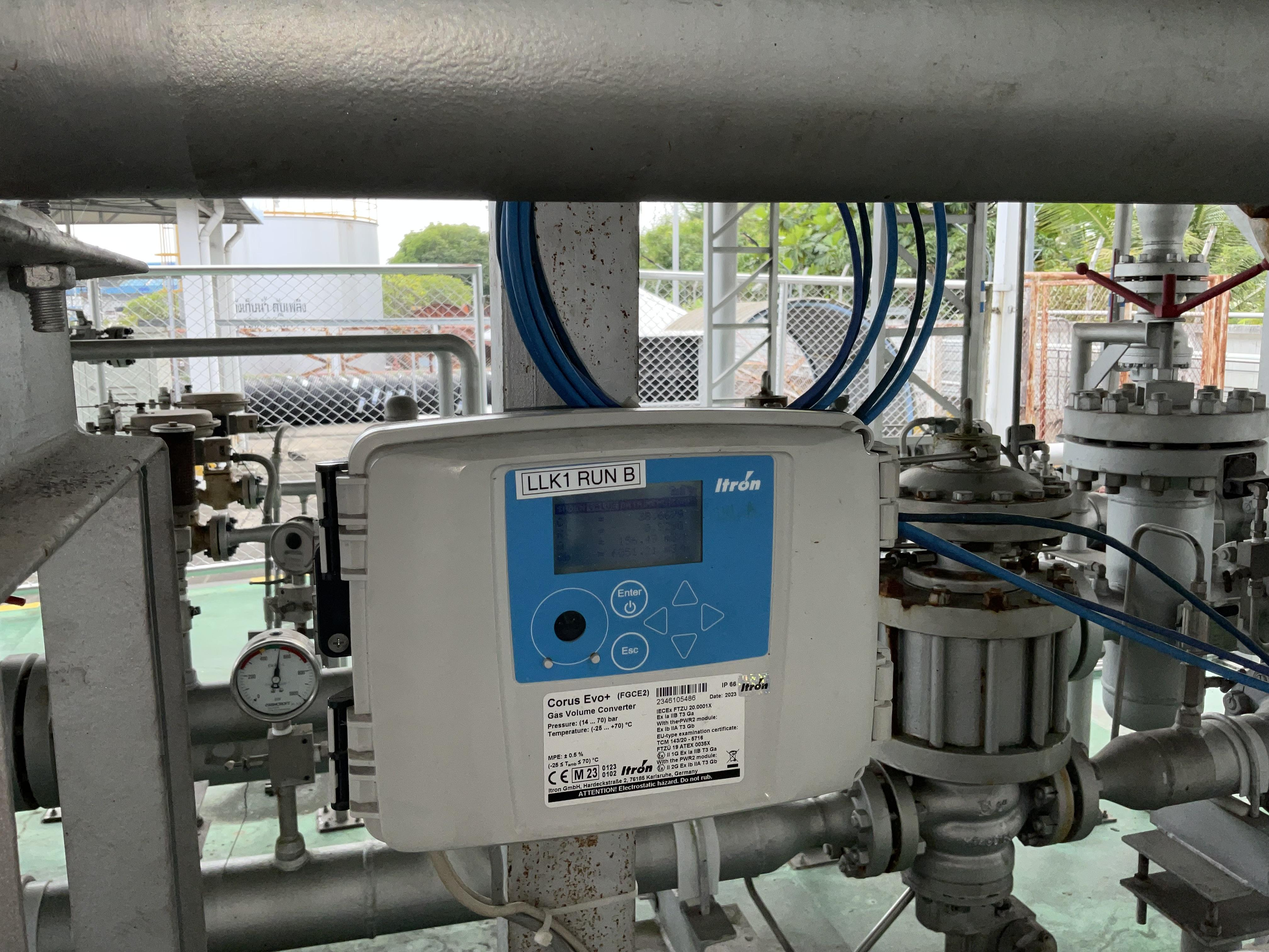digital_screen: (549, 480, 708, 574)
